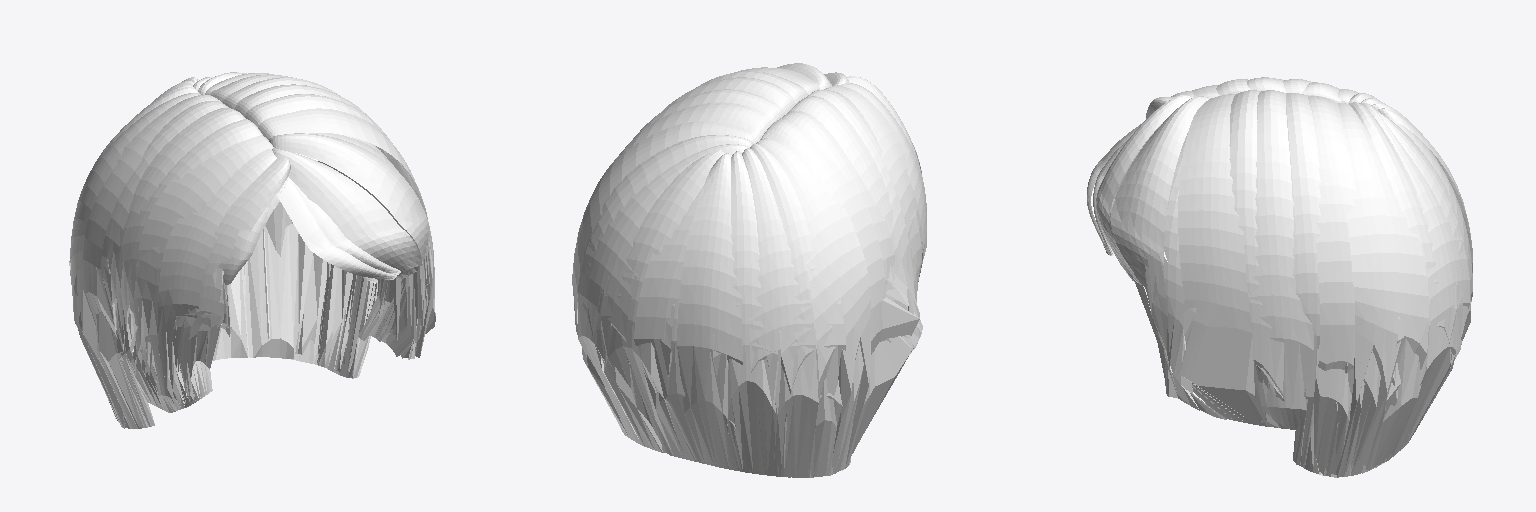
The picture shows the model from 3 angles: view 1: azimuth 30°, elevation 25°; view 2: azimuth 150°, elevation 25°; view 3: azimuth 270°, elevation 25°; orthographic projection.
Parts seen in each view (by area): view 1: T4 Item_0; view 2: T4 Item_0; view 3: T4 Item_0.
Part boxes in pixels (bbox=[...]): T4 Item_0: bbox=[69, 72, 435, 428]; T4 Item_0: bbox=[572, 63, 926, 477]; T4 Item_0: bbox=[1087, 77, 1472, 477].
Bounding box in the file's own units: 0.6116 × 0.664 × 0.6975.